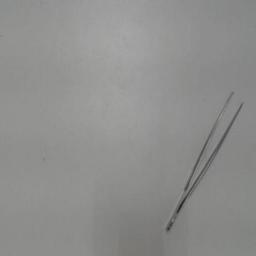Gillies Toothed Dissector: (161, 86, 251, 238)
